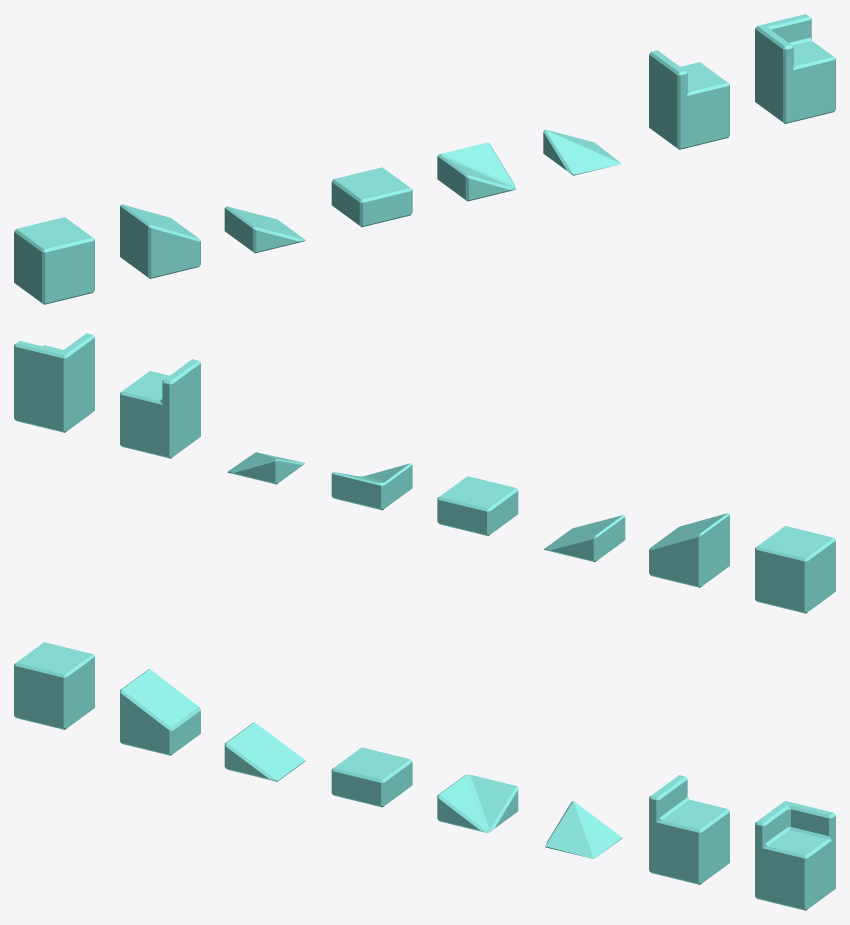
File: World-Blocks-V1.glb
The picture shows the model from 3 angles, top to bottom: view 1: azimuth 30°, elevation 25°; view 2: azimuth 150°, elevation 25°; view 3: azimuth 330°, elevation 25°; orthographic projection.
Visible parts, largest first — view 1: BlockWallCorner, BlockWallFlat, Block, RampShallowTop, BlockHalf, RampCornerUp, RampShallowBottom, RampCornerDown; view 2: BlockWallCorner, BlockWallFlat, Block, RampShallowTop, BlockHalf, RampCornerUp, RampShallowBottom, RampCornerDown; view 3: BlockWallCorner, BlockWallFlat, Block, RampShallowTop, BlockHalf, RampCornerUp, RampShallowBottom, RampCornerDown.
Boxes of the visible parts, x1,y1,x2,y2 form: BlockWallCorner: (755,14,835,123); BlockWallFlat: (649,50,729,149); Block: (14,217,94,304); RampShallowTop: (120,204,200,278); BlockHalf: (331,167,412,227); RampCornerUp: (437,142,515,201); RampShallowBottom: (224,206,305,253); RampCornerDown: (543,129,621,175); BlockWallCorner: (14,333,94,432); BlockWallFlat: (120,359,200,458); Block: (755,526,835,613); RampShallowTop: (649,513,729,587); BlockHalf: (437,476,518,535); RampCornerUp: (331,463,412,510); RampShallowBottom: (544,515,625,562); RampCornerDown: (227,452,304,484); BlockWallCorner: (755,801,835,910); BlockWallFlat: (649,775,729,884); Block: (14,642,94,729); RampShallowTop: (120,669,200,755); BlockHalf: (331,747,412,807); RampCornerUp: (437,774,518,832); RampShallowBottom: (224,722,305,781); RampCornerDown: (545,801,622,858).
Size of what is drawn, in the model's own units: 15 by 1.4 by 1.
